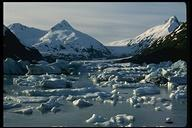mountain: (4, 13, 188, 62)
sky: (92, 5, 140, 32)
snow: (8, 77, 55, 106)
